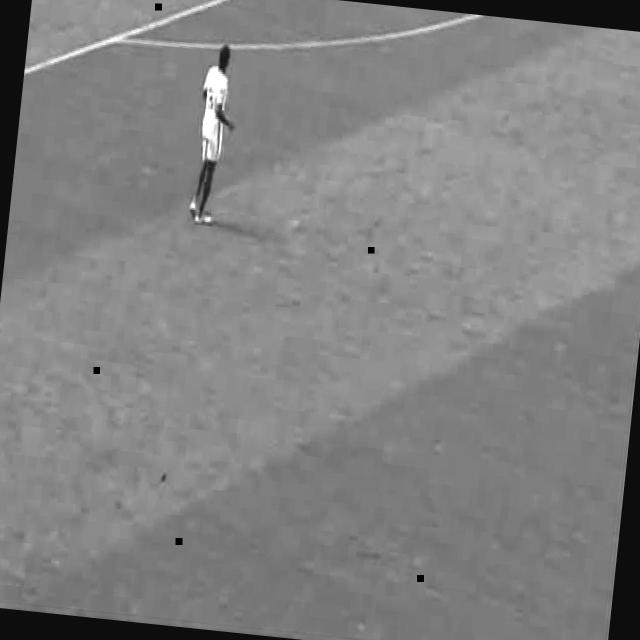player-white: (188, 42, 242, 228)
